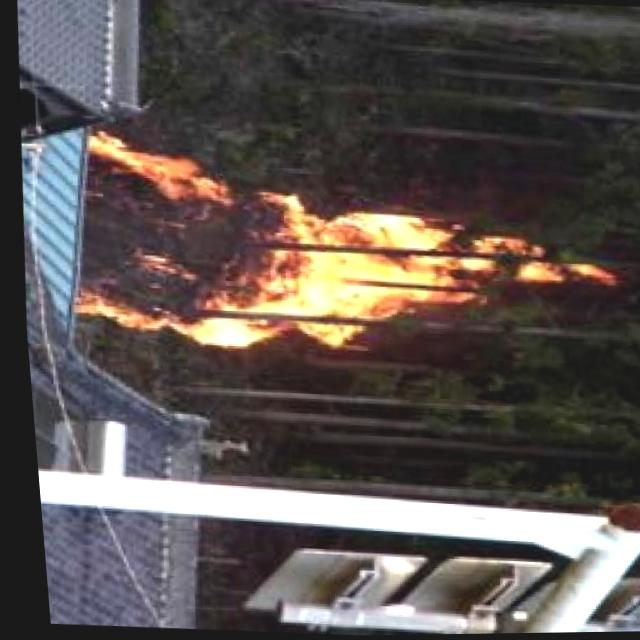helmet: (61, 136, 625, 369)
